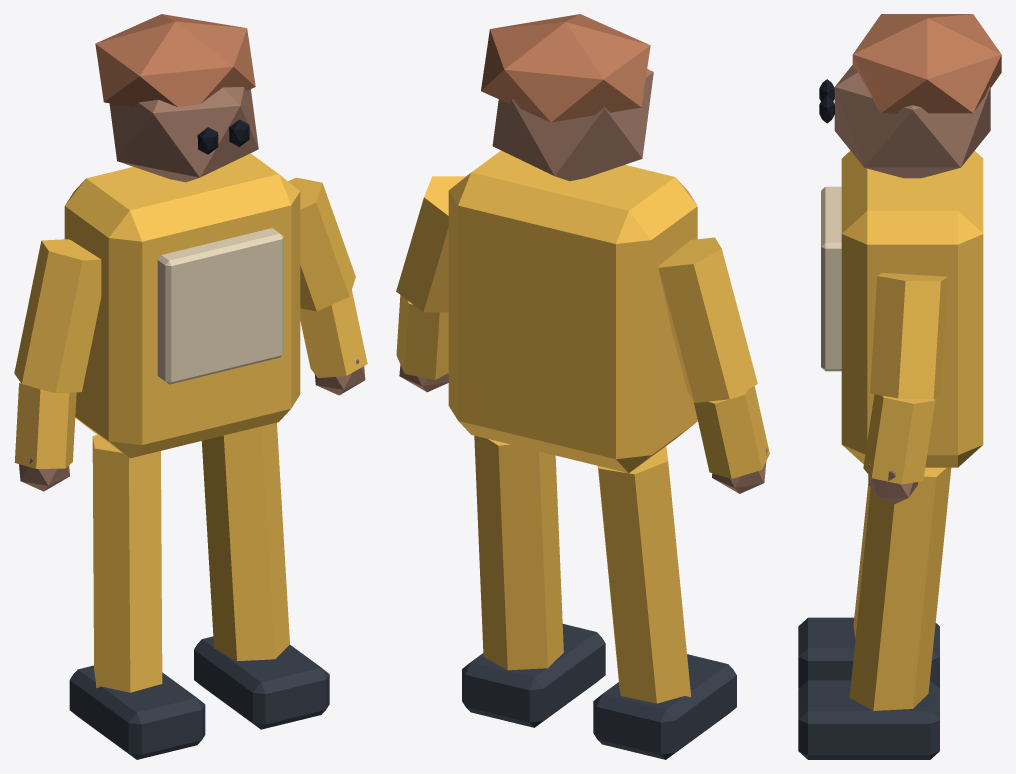
File: npcs_025_seed11.glb
3 renders of one model, left to right at view 1: azimuth 30°, elevation 25°; view 2: azimuth 150°, elevation 25°; view 3: azimuth 270°, elevation 25°, orthographic. The views are drawn at different scales.
Visible parts, largest first — view 1: npcs_025_seed11; view 2: npcs_025_seed11; view 3: npcs_025_seed11.
Boxes of the visible parts, x1=… form: npcs_025_seed11: x1=14, y1=14, x2=367, y2=759; npcs_025_seed11: x1=396, y1=14, x2=769, y2=759; npcs_025_seed11: x1=798, y1=14, x2=1001, y2=759.
Size of the model in its own units: 0.8563 by 1.59 by 0.4215.
